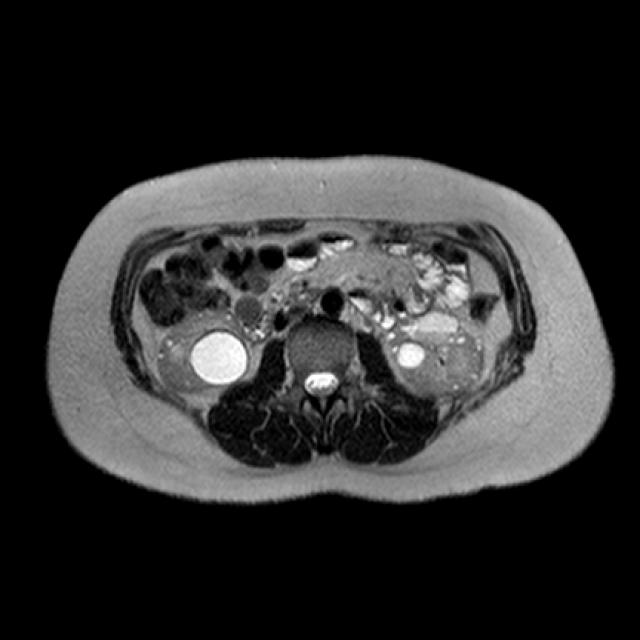sag: (155, 305, 253, 396)
sol: (386, 309, 486, 403)
